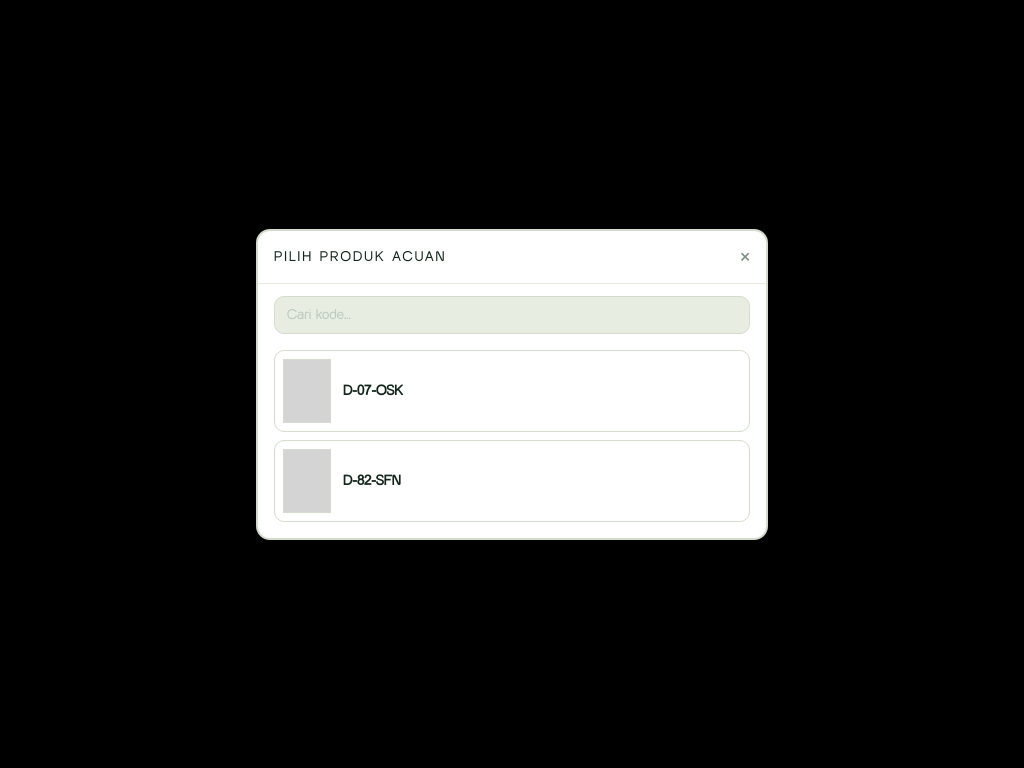
Test case: RepeatPicker › pencarian menyaring berdasarkan nama/nomor
Type "d-07" into the field with placeholder "Cari kode..." at (512, 314), box [274, 296, 750, 334]
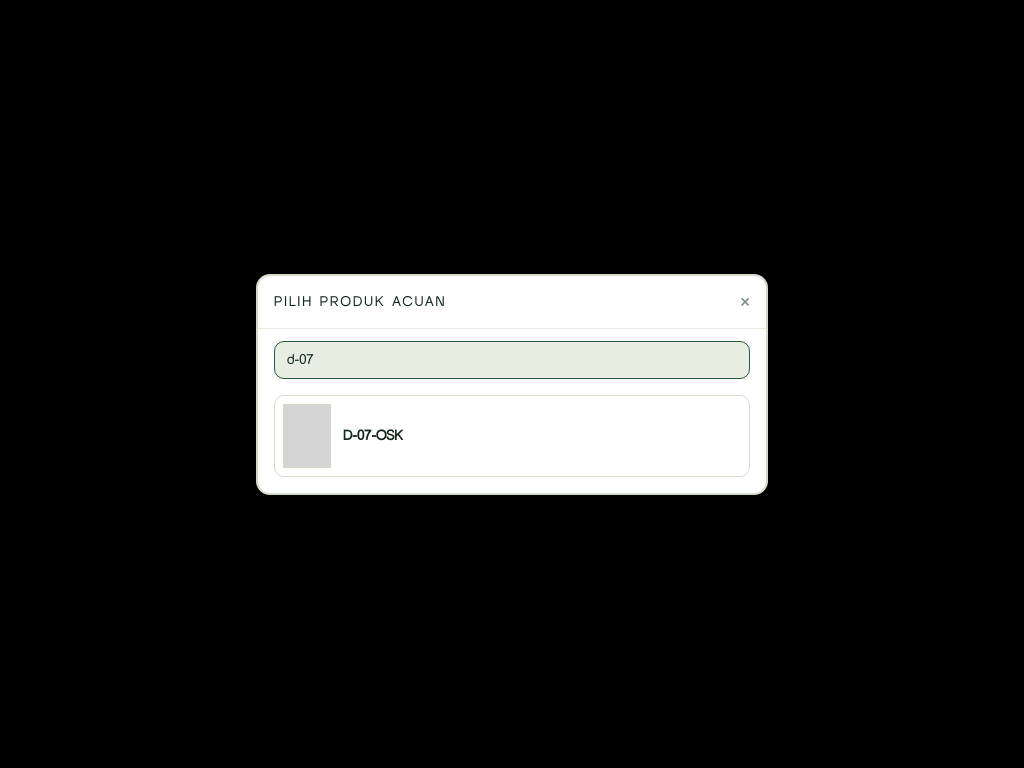
Expected: the text "D-07-OSK" is shown, [343, 426, 403, 446]
Result: the button "D-82-SFN" is gone
